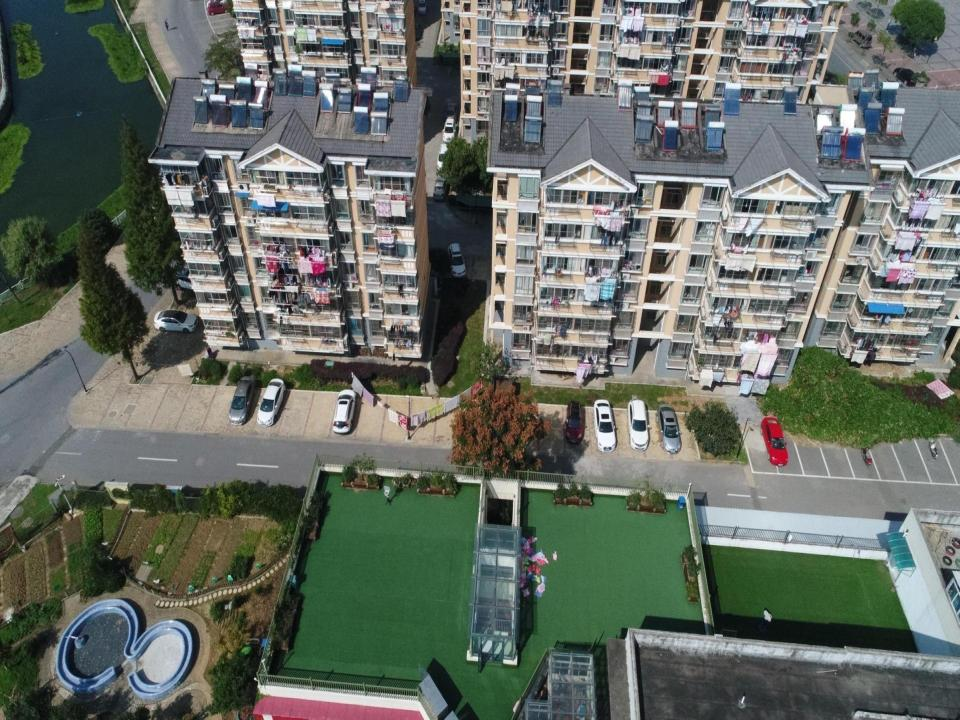car: (256, 378, 286, 427), (760, 418, 789, 468), (228, 376, 256, 425), (656, 404, 681, 454), (593, 400, 616, 452), (627, 398, 650, 450), (153, 309, 199, 334), (332, 389, 356, 435), (170, 266, 204, 292), (565, 401, 585, 444), (448, 242, 466, 278), (892, 68, 918, 88), (436, 144, 452, 173), (433, 175, 448, 202), (442, 117, 457, 143), (207, 1, 231, 16), (445, 102, 457, 123), (411, 20, 422, 42), (417, 0, 428, 16)
van: (850, 29, 873, 49)
